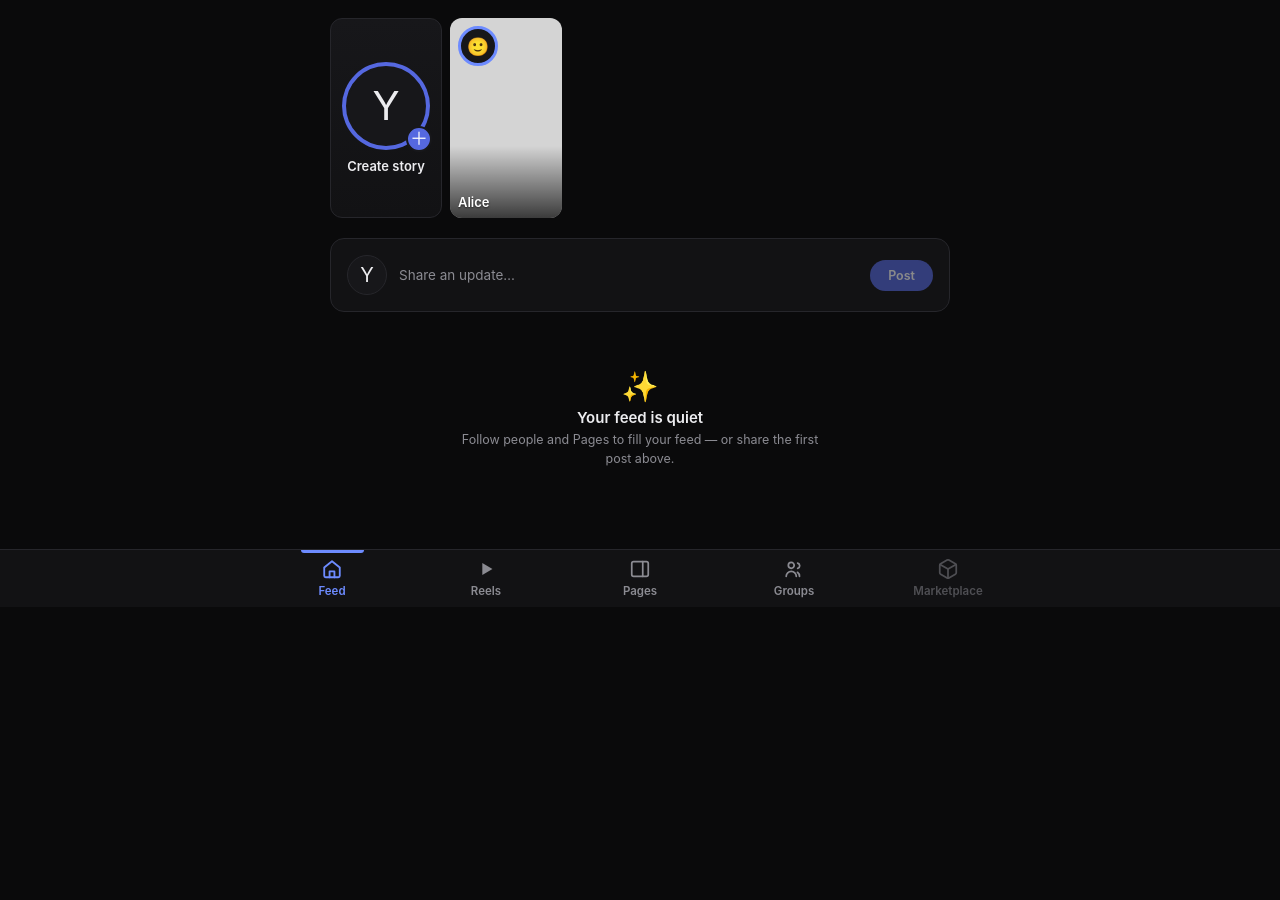
Test: FeedView action hierarchy › prefetches only the next story's image (EXP-1)
The width and height of the screenshot is (1280, 900).
Step 1. Click the button "🙂 Alice" → [506, 118], box [450, 18, 562, 218]
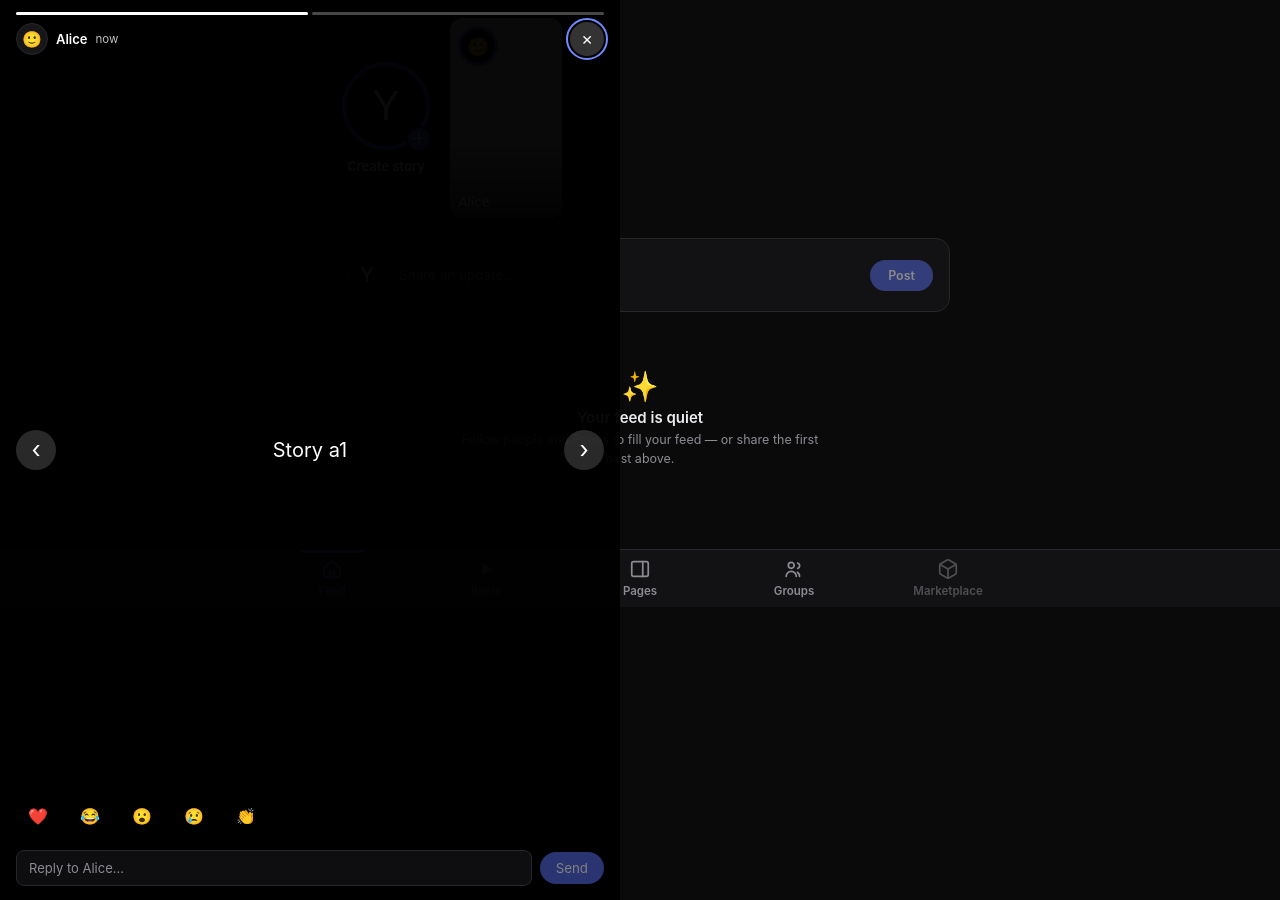
Result: the dialog named "Story by Alice" is shown at [0, 0, 620, 899]
